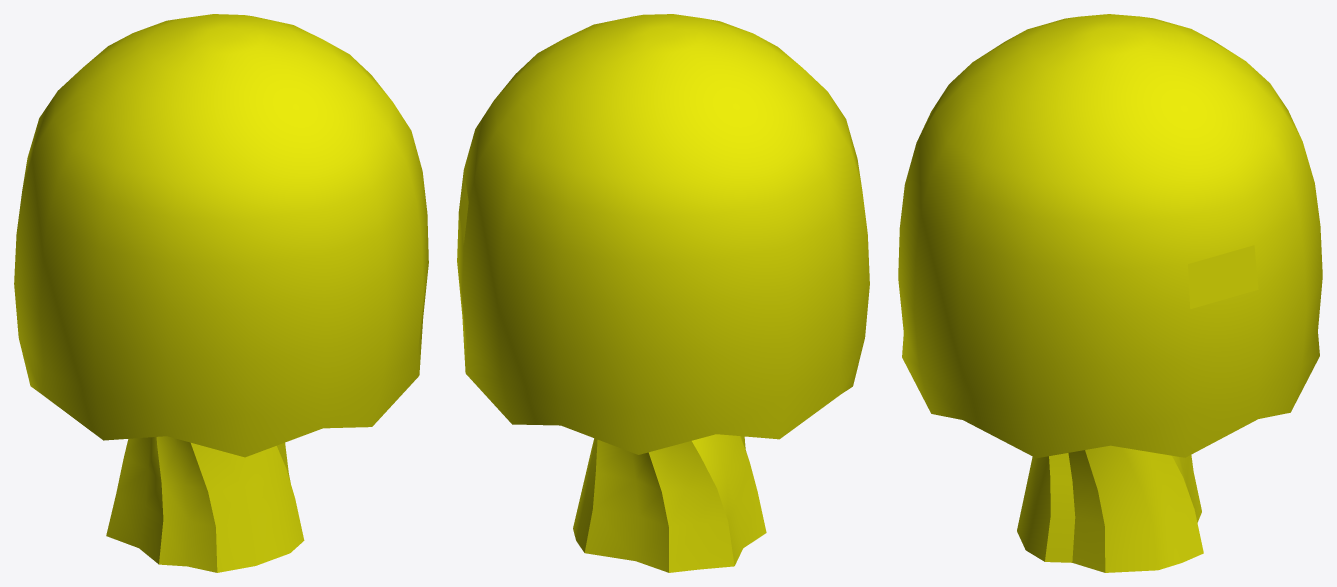
Rendered from Tree_2.glb.
3 renders of one model, left to right at view 1: azimuth 30°, elevation 25°; view 2: azimuth 150°, elevation 25°; view 3: azimuth 270°, elevation 25°, orthographic.
Parts seen in each view (by area): view 1: polySurface715; view 2: polySurface715; view 3: polySurface715.
Part boxes in pixels (x1,y1,x2,y2): polySurface715: [14, 14, 428, 572]; polySurface715: [457, 14, 869, 572]; polySurface715: [898, 14, 1322, 572].
Size of the model in its own units: 0.9522 by 1.24 by 0.9522.
1 material, 1 textured.
